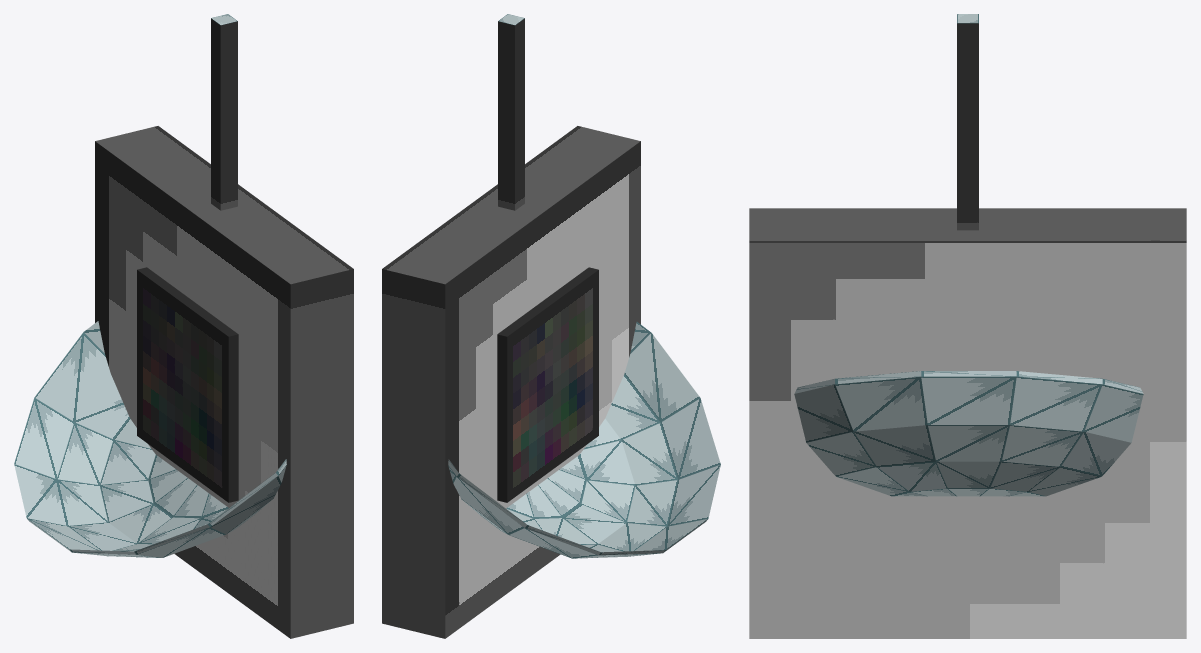
File: frequency_module.obj
3 renders of one model, left to right at view 1: azimuth 30°, elevation 25°; view 2: azimuth 150°, elevation 25°; view 3: azimuth 270°, elevation 25°, orthographic. The views are drawn at different scales.
Visible parts, largest first — view 1: Main, Radar; view 2: Main, Radar; view 3: Main, Radar.
Boxes of the visible parts, x1=… form: Main: x1=95, y1=14, x2=353, y2=638; Radar: x1=14, y1=321, x2=286, y2=557; Main: x1=382, y1=14, x2=640, y2=638; Radar: x1=448, y1=322, x2=720, y2=558; Main: x1=749, y1=14, x2=1186, y2=638; Radar: x1=794, y1=371, x2=1143, y2=496.
Bounding box in the file's own units: 0.8296 × 1.6 × 1.05.
